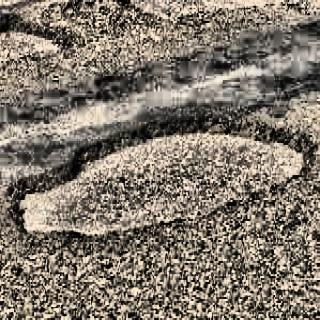pothole: (20, 114, 312, 237)
